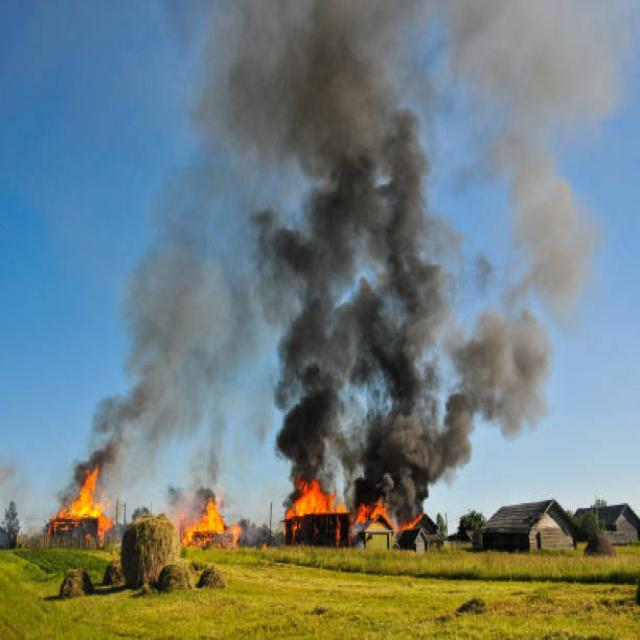Fire: (54, 458, 114, 534), (286, 474, 346, 540), (183, 496, 240, 550), (350, 492, 420, 532)
Smoke: (223, 0, 546, 524)
